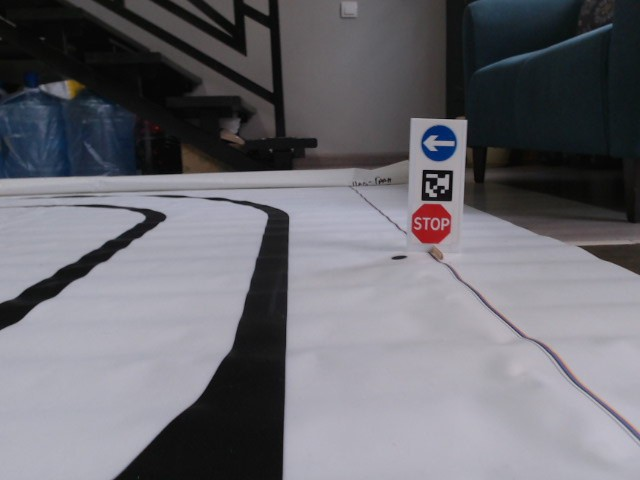Stop: (409, 202, 453, 245)
